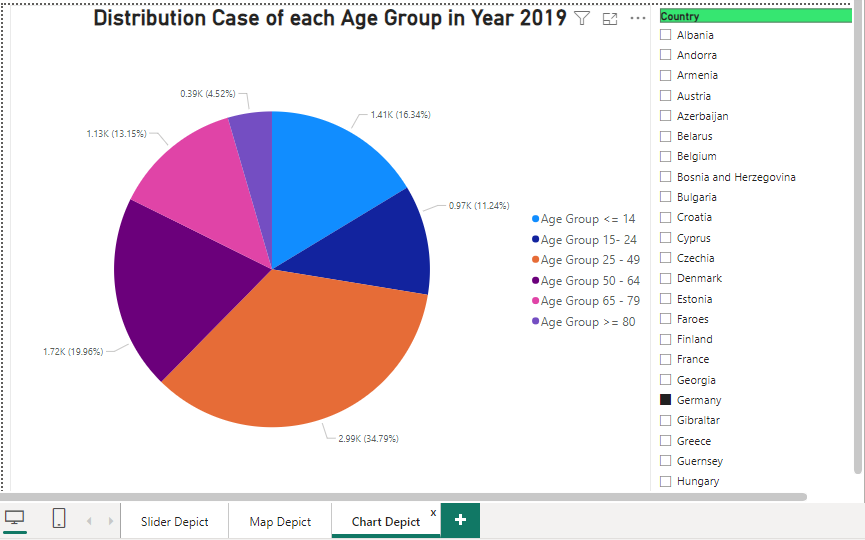

The dashboard page shown, as its layout file describes it:
{"tool":"powerbi","page":{"name":"Chart Depict","canvas":[1280,720],"ordinal":2},"visuals":[{"type":"pieChart","title":"Distribution Case of each Age Group in Year 2019","fields":{"Y":["Sum(covid_reporting age_group_case.age_group_0_14)","Sum(covid_reporting age_group_case.age_group_15_24)","Sum(covid_reporting age_group_case.age_group_25_49)","Sum(covid_reporting age_group_case.age_group_50_64)","Sum(covid_reporting age_group_case.age_group_65_79)","Sum(covid_reporting age_group_case.age_group_80_max)"]},"box":[10.7,0,914.5,720.2],"z":0},{"type":"slicer","fields":{"Values":["covid_reporting cases_and_deaths.country"]},"box":[925.2,0,342.3,702.4],"z":1000}]}

Visuals, with their boxes on the page's 1280x720 design canvas (x1, y1, x2, y2). These are canvas units, not pixel positions in the 865x540 screenshot, which may show the page scaled, cropped or inside an application window:
"Distribution Case of each Age Group in Year 2019" pieChart: <box>11,0,925,720</box>
slicer - covid_reporting cases_and_deaths.country: <box>925,0,1268,702</box>
